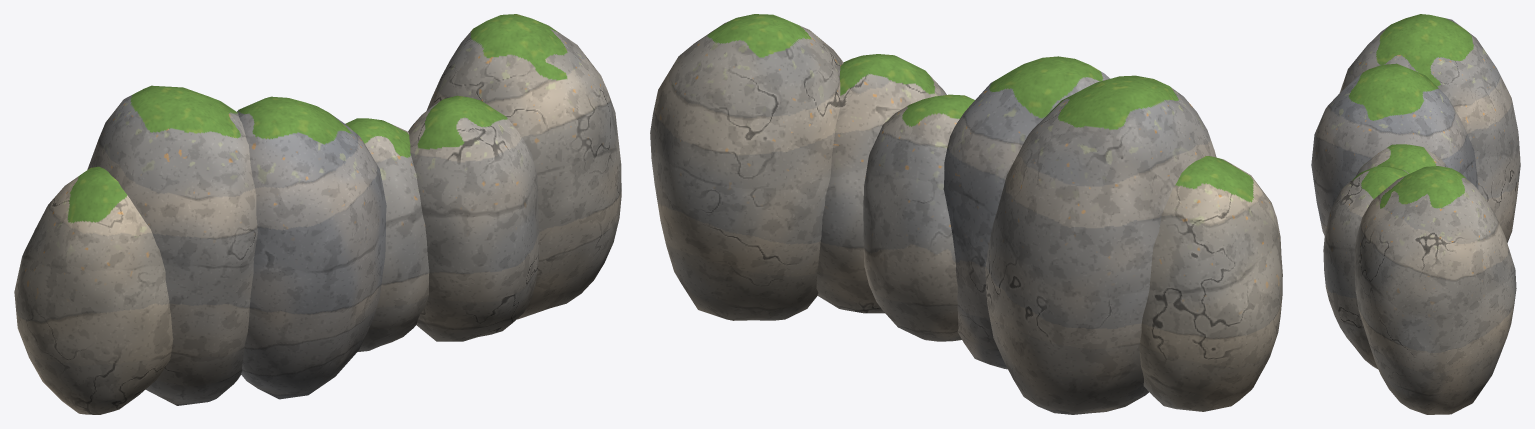
File: cliff_b.glb
3 views of the same model, side by side, from view 1: azimuth 30°, elevation 25°; view 2: azimuth 150°, elevation 25°; view 3: azimuth 270°, elevation 25° (orthographic). The views are drawn at different scales.
Parts seen in each view (by area): view 1: Cliff; view 2: Cliff; view 3: Cliff.
Part boxes in pixels (x1,y1,x2,y2): Cliff: [14, 14, 621, 414]; Cliff: [650, 14, 1282, 414]; Cliff: [1311, 14, 1520, 414].
Bounding box in the file's own units: 4.51 × 2.31 × 1.74.
1 material, 1 textured.
